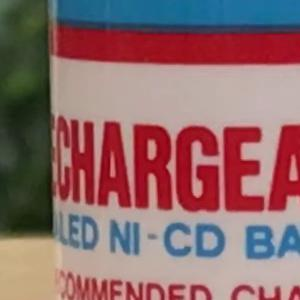NI-CD: (100, 213, 235, 265)
